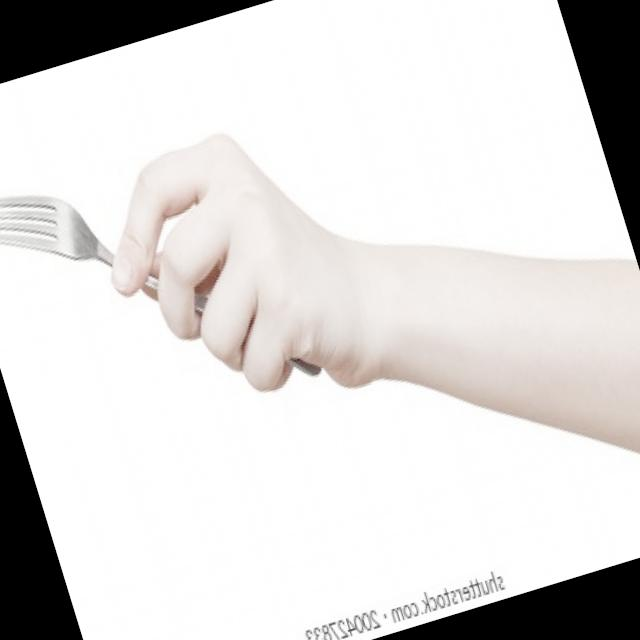fork: (0, 115, 329, 464)
